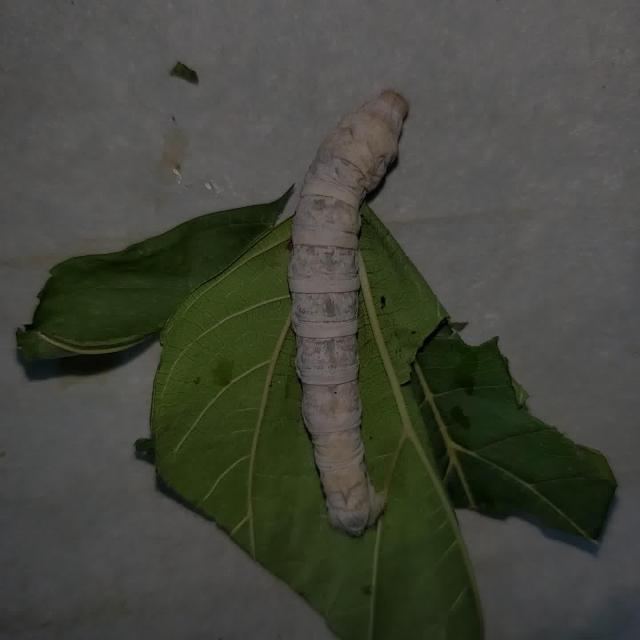Grasserie: (268, 73, 448, 560)
